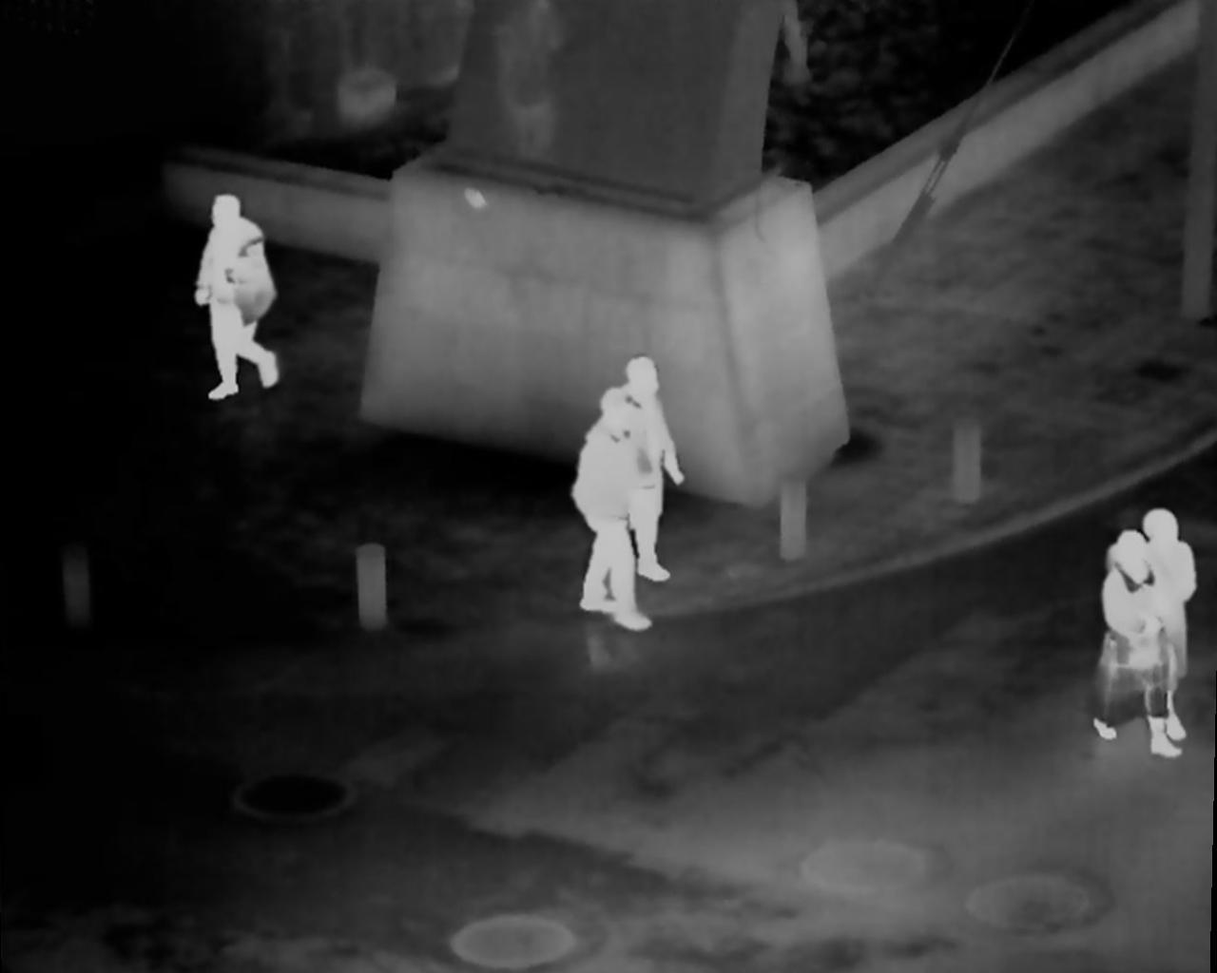person: (570, 386, 654, 635), (187, 189, 280, 404), (1094, 529, 1178, 758), (621, 353, 683, 583), (1140, 510, 1193, 737)
